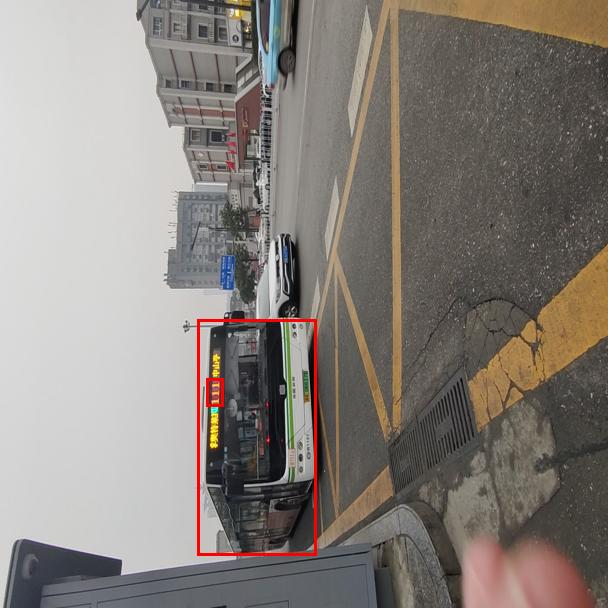bus: (197, 319, 316, 555)
screen: (206, 378, 223, 406)
